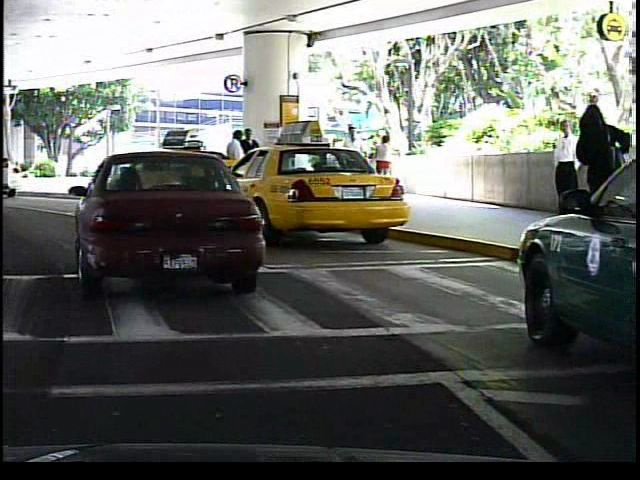person: (571, 102, 628, 258), (542, 112, 580, 206), (337, 120, 370, 199), (220, 127, 249, 203), (368, 130, 395, 194), (241, 125, 261, 199)
